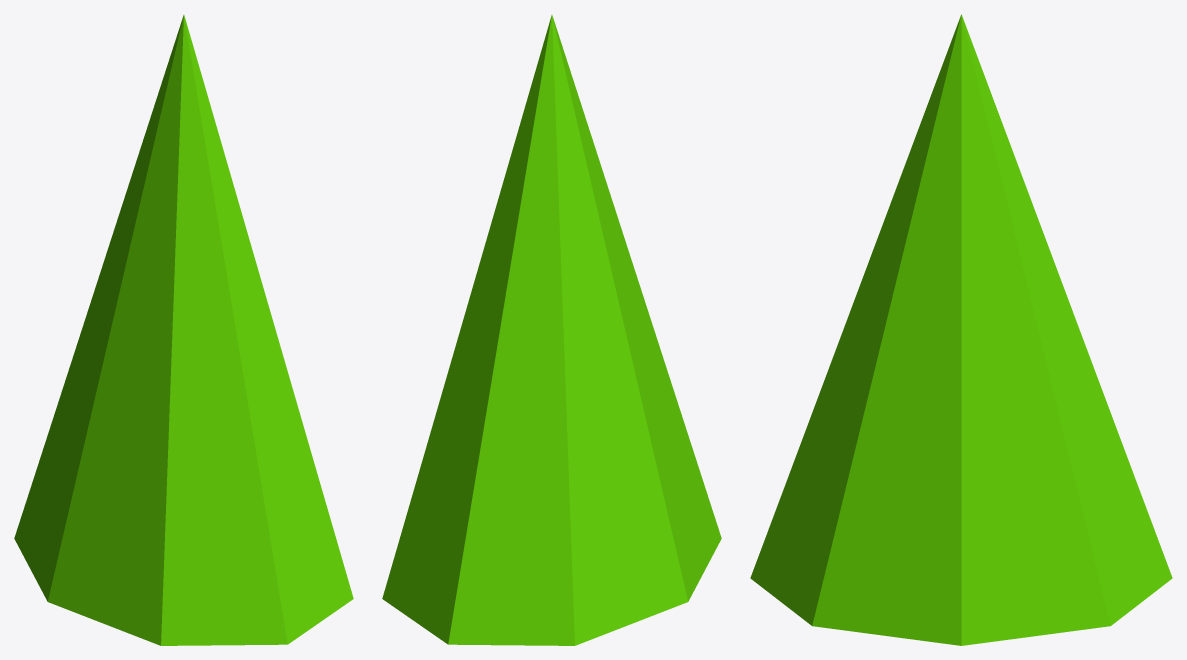
Rendered from grama.fbx.
The picture shows the model from 3 angles, left to right: view 1: azimuth 30°, elevation 25°; view 2: azimuth 150°, elevation 25°; view 3: azimuth 270°, elevation 25°; orthographic projection.
Visible parts, largest first — view 1: Cone; view 2: Cone; view 3: Cone.
Part boxes in pixels (x1=…): Cone: x1=14, y1=15, x2=353, y2=645; Cone: x1=382, y1=15, x2=721, y2=645; Cone: x1=750, y1=14, x2=1172, y2=645.
Bounding box in the file's own units: 87.29 × 170 × 115.
